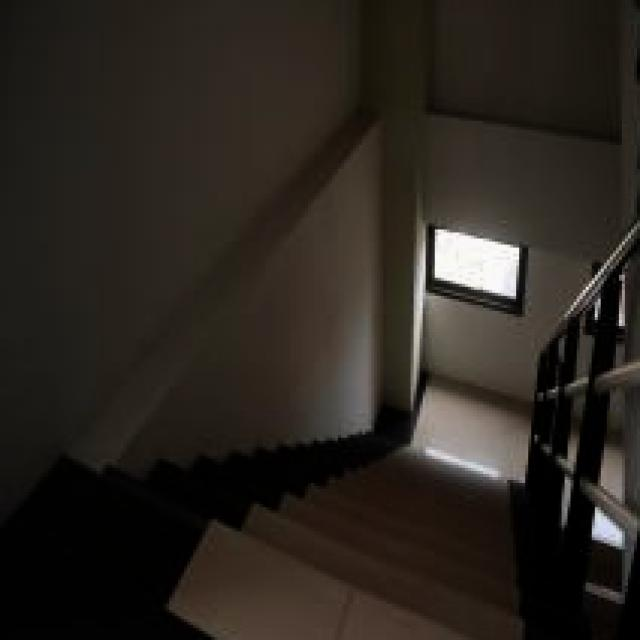downstair: (183, 442, 542, 640)
